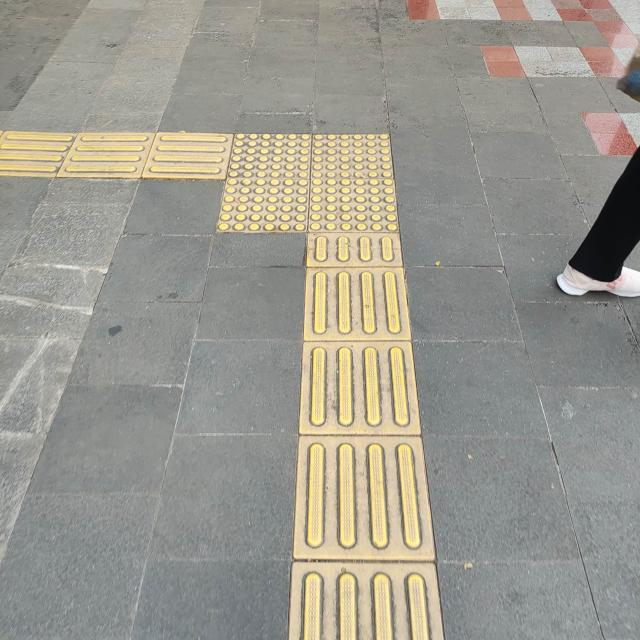kiri: (105, 86, 474, 330)
